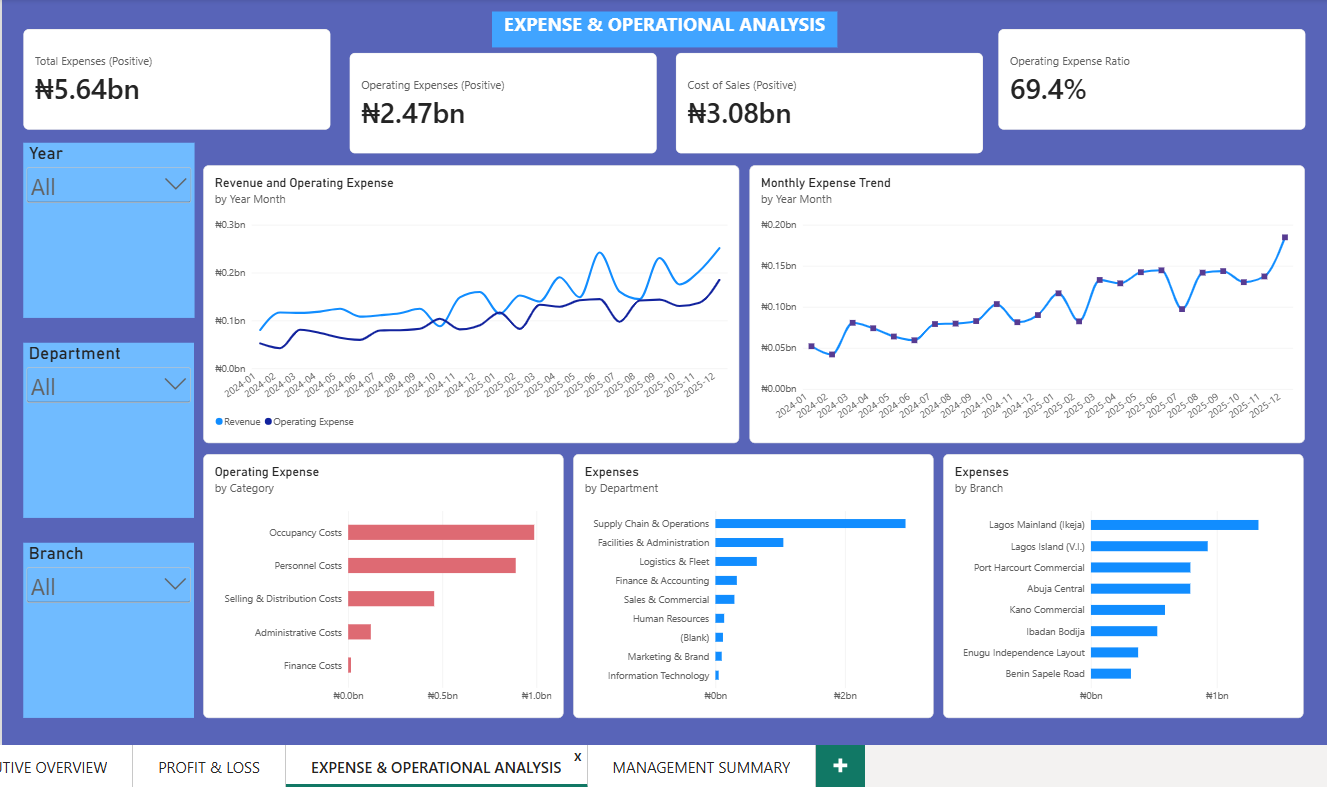

What the dashboard file says about the page in this screenshot:
{"tool":"powerbi","page":{"name":"EXPENSE & OPERATIONAL ANALYSIS","canvas":[1920,1080],"ordinal":2},"visuals":[{"type":"textbox","box":[710,17.4,500,52.2],"z":0},{"type":"slicer","fields":{"Values":["Date.Year"]},"box":[30.4,208.7,247.8,253.8],"z":0,"group":"g1"},{"type":"clusteredBarChart","fields":{"Category":["Account.PLGroup"],"Y":["FinancialTransactions.Operating Expenses (Positive)"]},"box":[291.4,658.6,521.6,382],"z":0,"group":"g2"},{"type":"cardVisual","fields":{"Data":["FinancialTransactions.Total Expenses (Positive)","FinancialTransactions.Total Expenses (Positive)"]},"box":[30.4,43.5,445.8,146.2],"z":1000},{"type":"slicer","fields":{"Values":["Department.Department"]},"box":[30.4,498.6,247,253.3],"z":1000,"group":"g1"},{"type":"clusteredBarChart","fields":{"Category":["Department.Department"],"Y":["FinancialTransactions.Total Expenses (Positive)"]},"box":[827.3,658.6,521.6,382.6],"z":1000,"group":"g2"},{"type":"cardVisual","fields":{"Data":["FinancialTransactions.Operating Expenses (Positive)"]},"box":[503.2,77.8,445.2,146.1],"z":2000},{"type":"clusteredBarChart","fields":{"Category":["Branch.Branch"],"Y":["FinancialTransactions.Total Expenses (Positive)"]},"box":[1363.3,658.6,521.6,382.6],"z":2000,"group":"g2"},{"type":"slicer","fields":{"Values":["Branch.Branch"]},"box":[30.4,788,247,253.3],"z":2000,"group":"g1"},{"type":"cardVisual","fields":{"Data":["FinancialTransactions.Cost of Sales (Positive)"]},"box":[975.1,77.8,445.2,146.1],"z":3000},{"type":"cardVisual","fields":{"Data":["FinancialTransactions.Operating Expense Ratio"]},"box":[1441.8,43.5,445.2,146.1],"z":4000},{"type":"lineChart","fields":{"Category":["Date.Year Month"],"Y":["FinancialTransactions.Operating Expenses (Positive)"]},"box":[1082.6,241.3,804.3,402.2],"z":5000},{"type":"group","id":"g1","title":"Group 1","box":[30.4,208.7,247.8,832.6],"z":6000},{"type":"group","id":"g2","title":"Group 3","box":[291.4,658.6,1593.5,382.6],"z":7000},{"type":"lineChart","fields":{"Category":["Date.Year Month"],"Y":["FinancialTransactions.Revenue","FinancialTransactions.Operating Expenses (Positive)"]},"box":[291.3,241.3,776.1,402.2],"z":8000}]}

Visuals, with their boxes on the page's 1920x1080 design canvas (x1, y1, x2, y2). These are canvas units, not pixel positions in the 1327x787 screenshot, which may show the page scaled, cropped or inside an application window:
textbox: l=710, t=17, r=1210, b=70
slicer - Date.Year: l=30, t=209, r=278, b=462
clusteredBarChart - Account.PLGroup x FinancialTransactions.Operating Expenses (Positive): l=291, t=659, r=813, b=1041
cardVisual - FinancialTransactions.Total Expenses (Positive) x FinancialTransactions.Total Expenses (Positive): l=30, t=44, r=476, b=190
slicer - Department.Department: l=30, t=499, r=277, b=752
clusteredBarChart - Department.Department x FinancialTransactions.Total Expenses (Positive): l=827, t=659, r=1349, b=1041
cardVisual - FinancialTransactions.Operating Expenses (Positive): l=503, t=78, r=948, b=224
clusteredBarChart - Branch.Branch x FinancialTransactions.Total Expenses (Positive): l=1363, t=659, r=1885, b=1041
slicer - Branch.Branch: l=30, t=788, r=277, b=1041
cardVisual - FinancialTransactions.Cost of Sales (Positive): l=975, t=78, r=1420, b=224
cardVisual - FinancialTransactions.Operating Expense Ratio: l=1442, t=44, r=1887, b=190
lineChart - Date.Year Month x FinancialTransactions.Operating Expenses (Positive): l=1083, t=241, r=1887, b=644
"Group 1" group: l=30, t=209, r=278, b=1041
"Group 3" group: l=291, t=659, r=1885, b=1041
lineChart - Date.Year Month x FinancialTransactions.Revenue: l=291, t=241, r=1067, b=644
